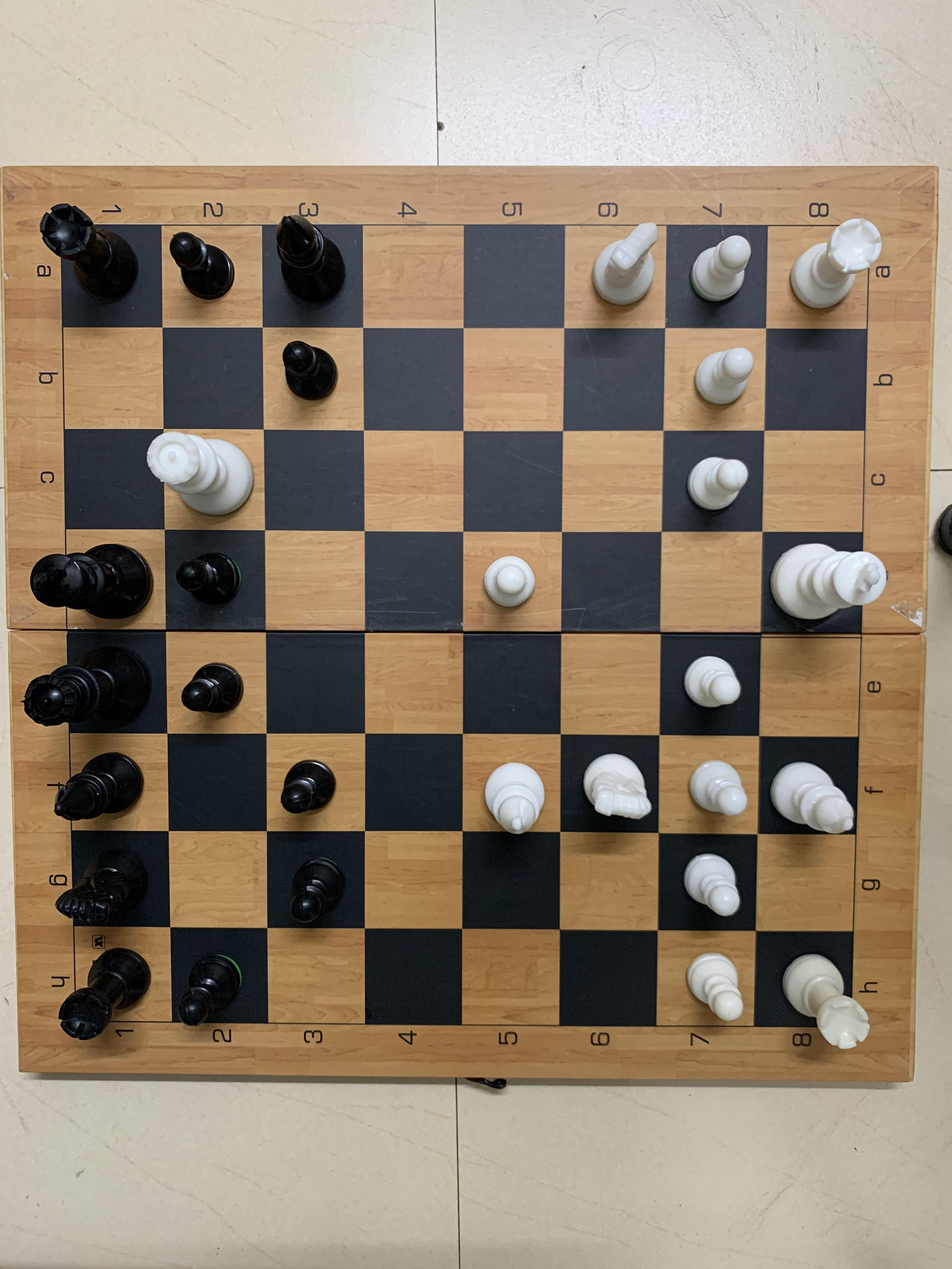black_bishop: (47, 746, 158, 833), (268, 211, 362, 312)
black_king: (24, 532, 159, 635)
black_knight: (46, 847, 158, 943)
black_pawn: (172, 940, 265, 1036), (168, 644, 264, 730), (264, 833, 354, 922), (161, 531, 252, 618), (268, 332, 358, 419), (157, 216, 246, 303), (264, 738, 348, 824)
black_queen: (16, 631, 162, 742)
black_rook: (28, 195, 139, 305), (41, 940, 156, 1042)
white_bishop: (767, 743, 867, 853), (469, 745, 560, 843)
white_king: (768, 534, 892, 625)
white_knight: (579, 222, 676, 314), (571, 742, 654, 833)
white_pawn: (664, 737, 762, 838), (683, 222, 760, 323), (674, 345, 766, 428), (678, 436, 757, 531), (669, 638, 760, 720), (674, 940, 756, 1031), (467, 542, 553, 626), (671, 838, 744, 930)
white_queen: (140, 419, 265, 524)
white_rook: (767, 932, 885, 1061), (784, 211, 886, 310)
